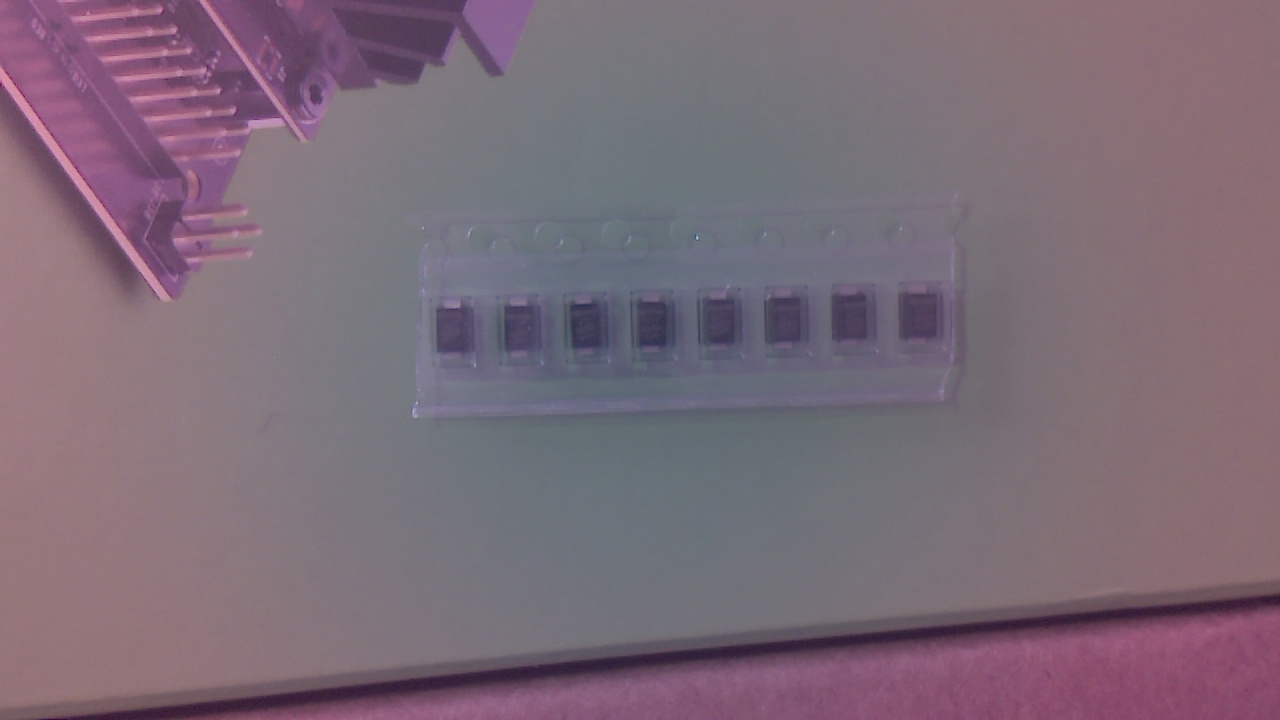Diode: (701, 294, 748, 359), (437, 300, 482, 367), (569, 295, 611, 363), (767, 289, 808, 358), (904, 287, 943, 354), (637, 298, 677, 363), (836, 290, 876, 355), (504, 302, 542, 366)
